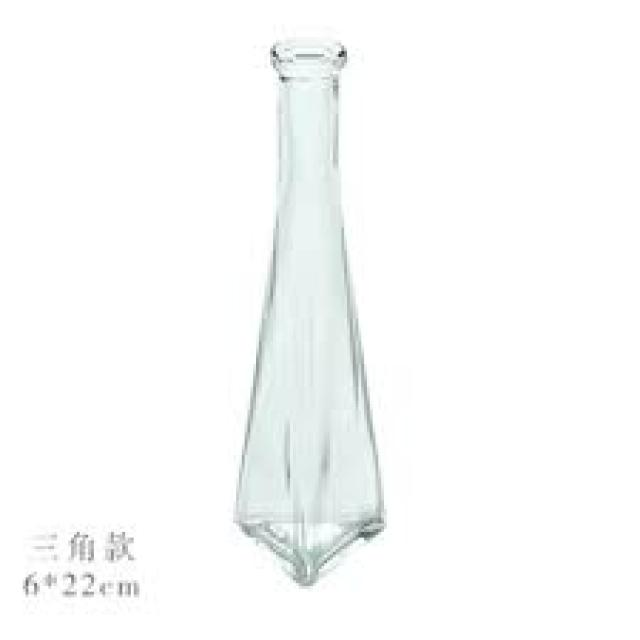glass: (233, 37, 381, 580)
